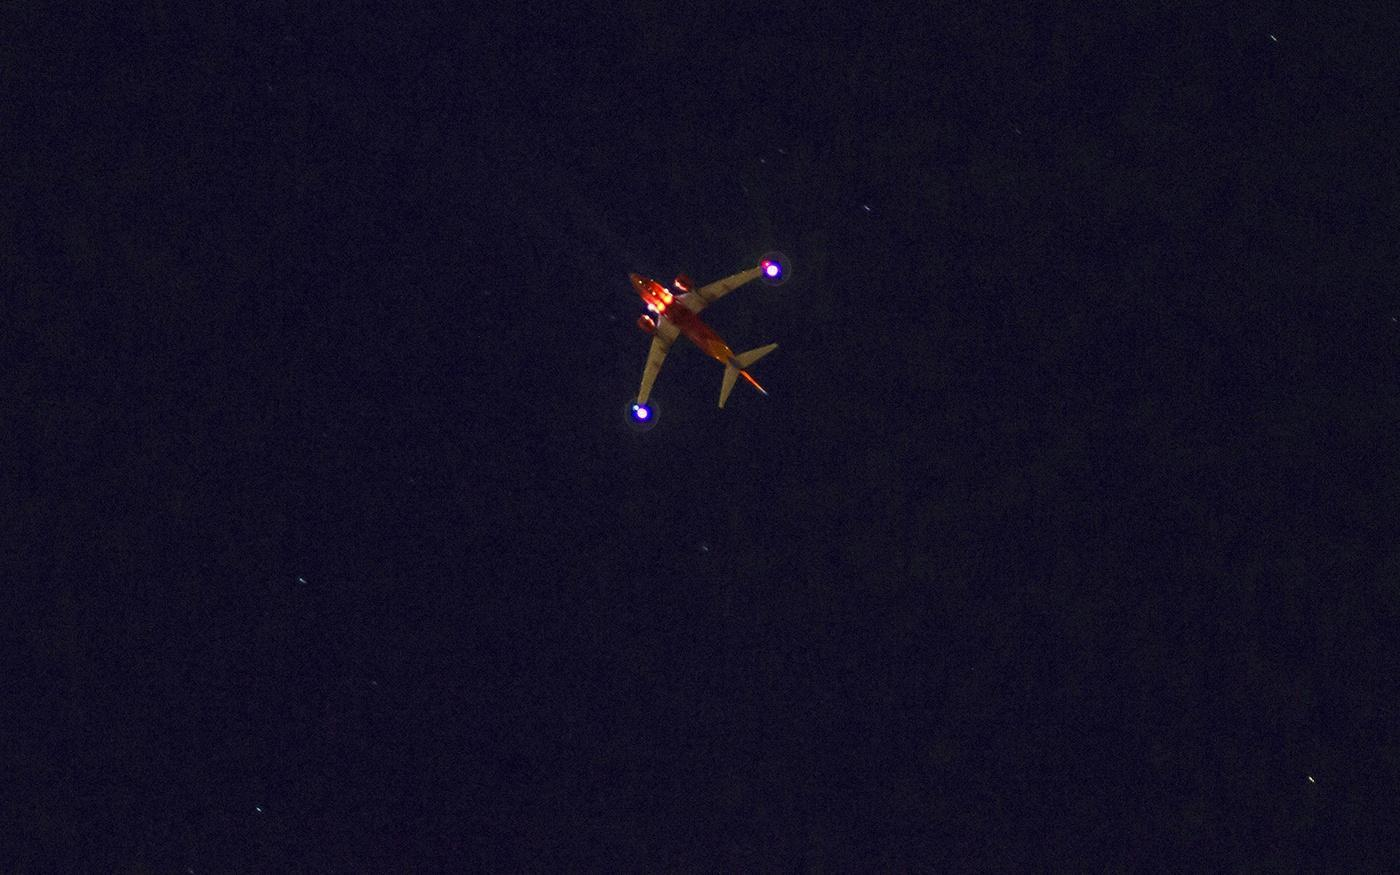Plane: (603, 254, 810, 436)
